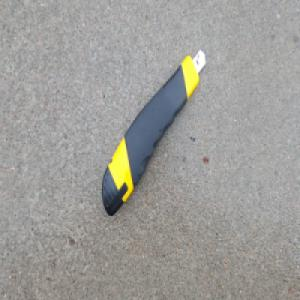Cutter: (100, 47, 207, 217)
